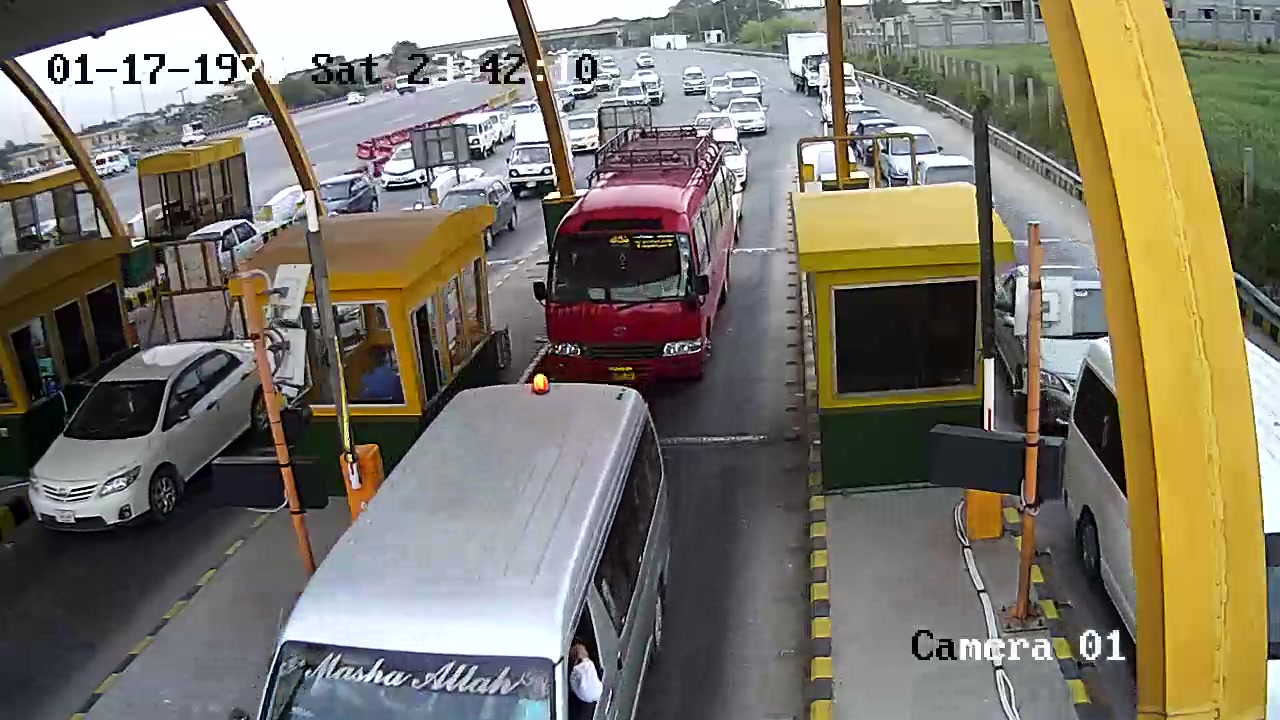F3: (537, 118, 737, 379)
